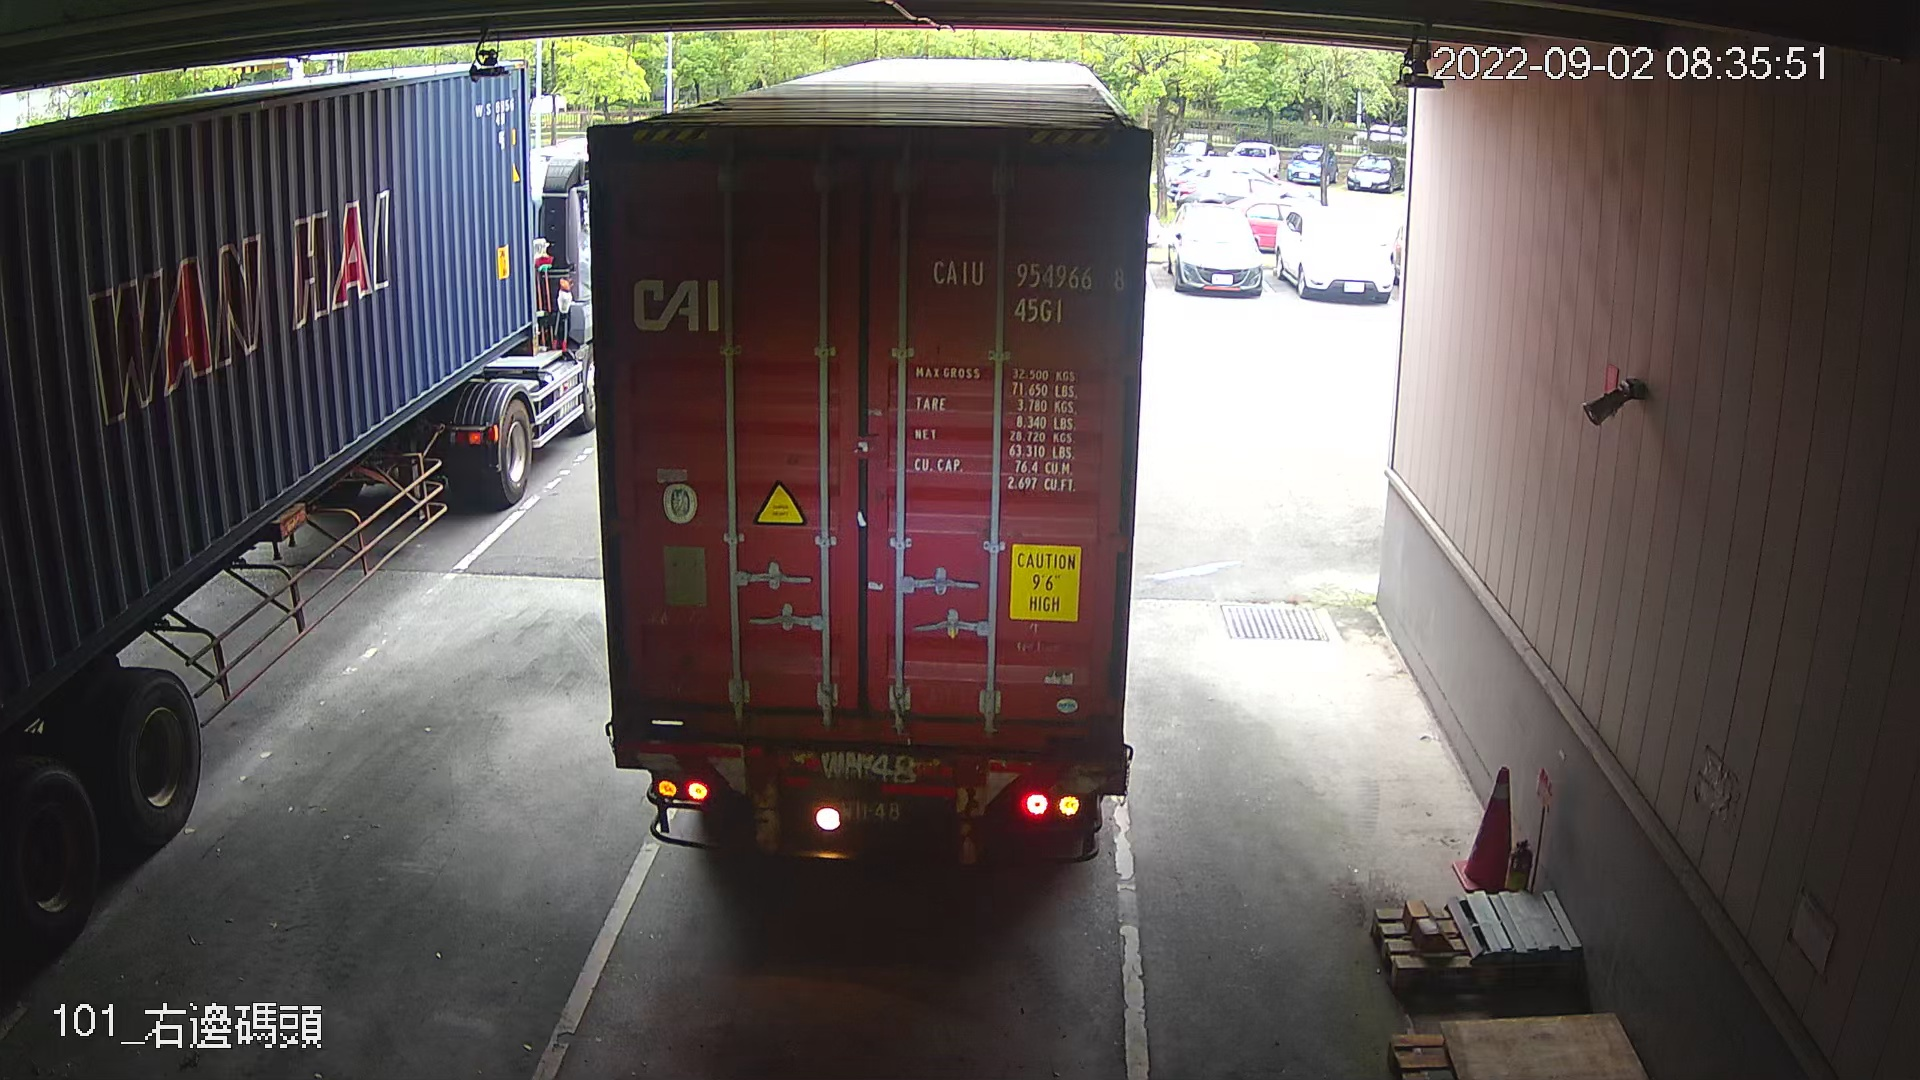container: (919, 248, 1135, 334)
